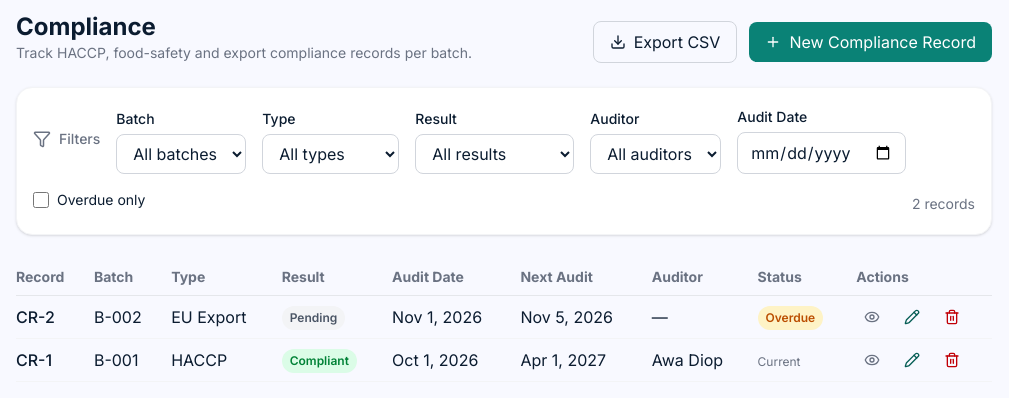
Test: ComplianceRecordList › filters by compliance type
Check: the text "CR-1" is shown, box [16,338,94,382]
Select "EU Export" in the dropdown named "Filter by type" at (331, 154), box [262,134,399,174]
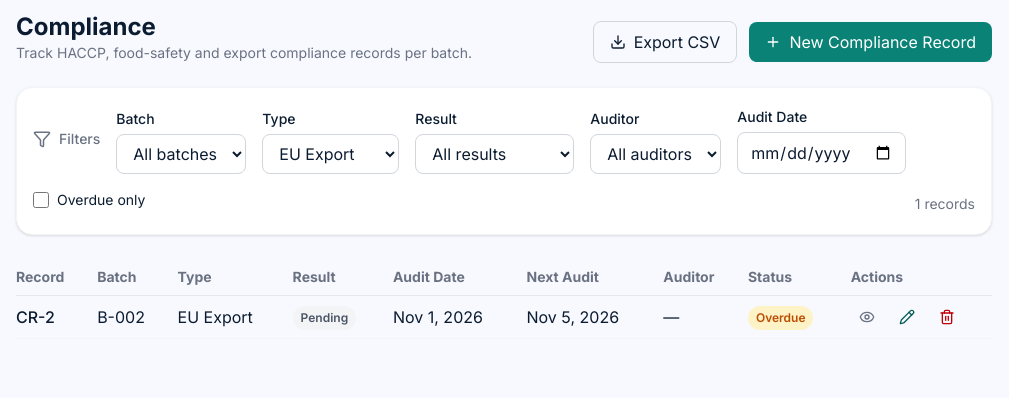
Check: the text "CR-2" is shown, box [16,296,97,338]
Check: the text "CR-1" is gone
Check: the text "1 records" is shown, box [915,194,975,214]
